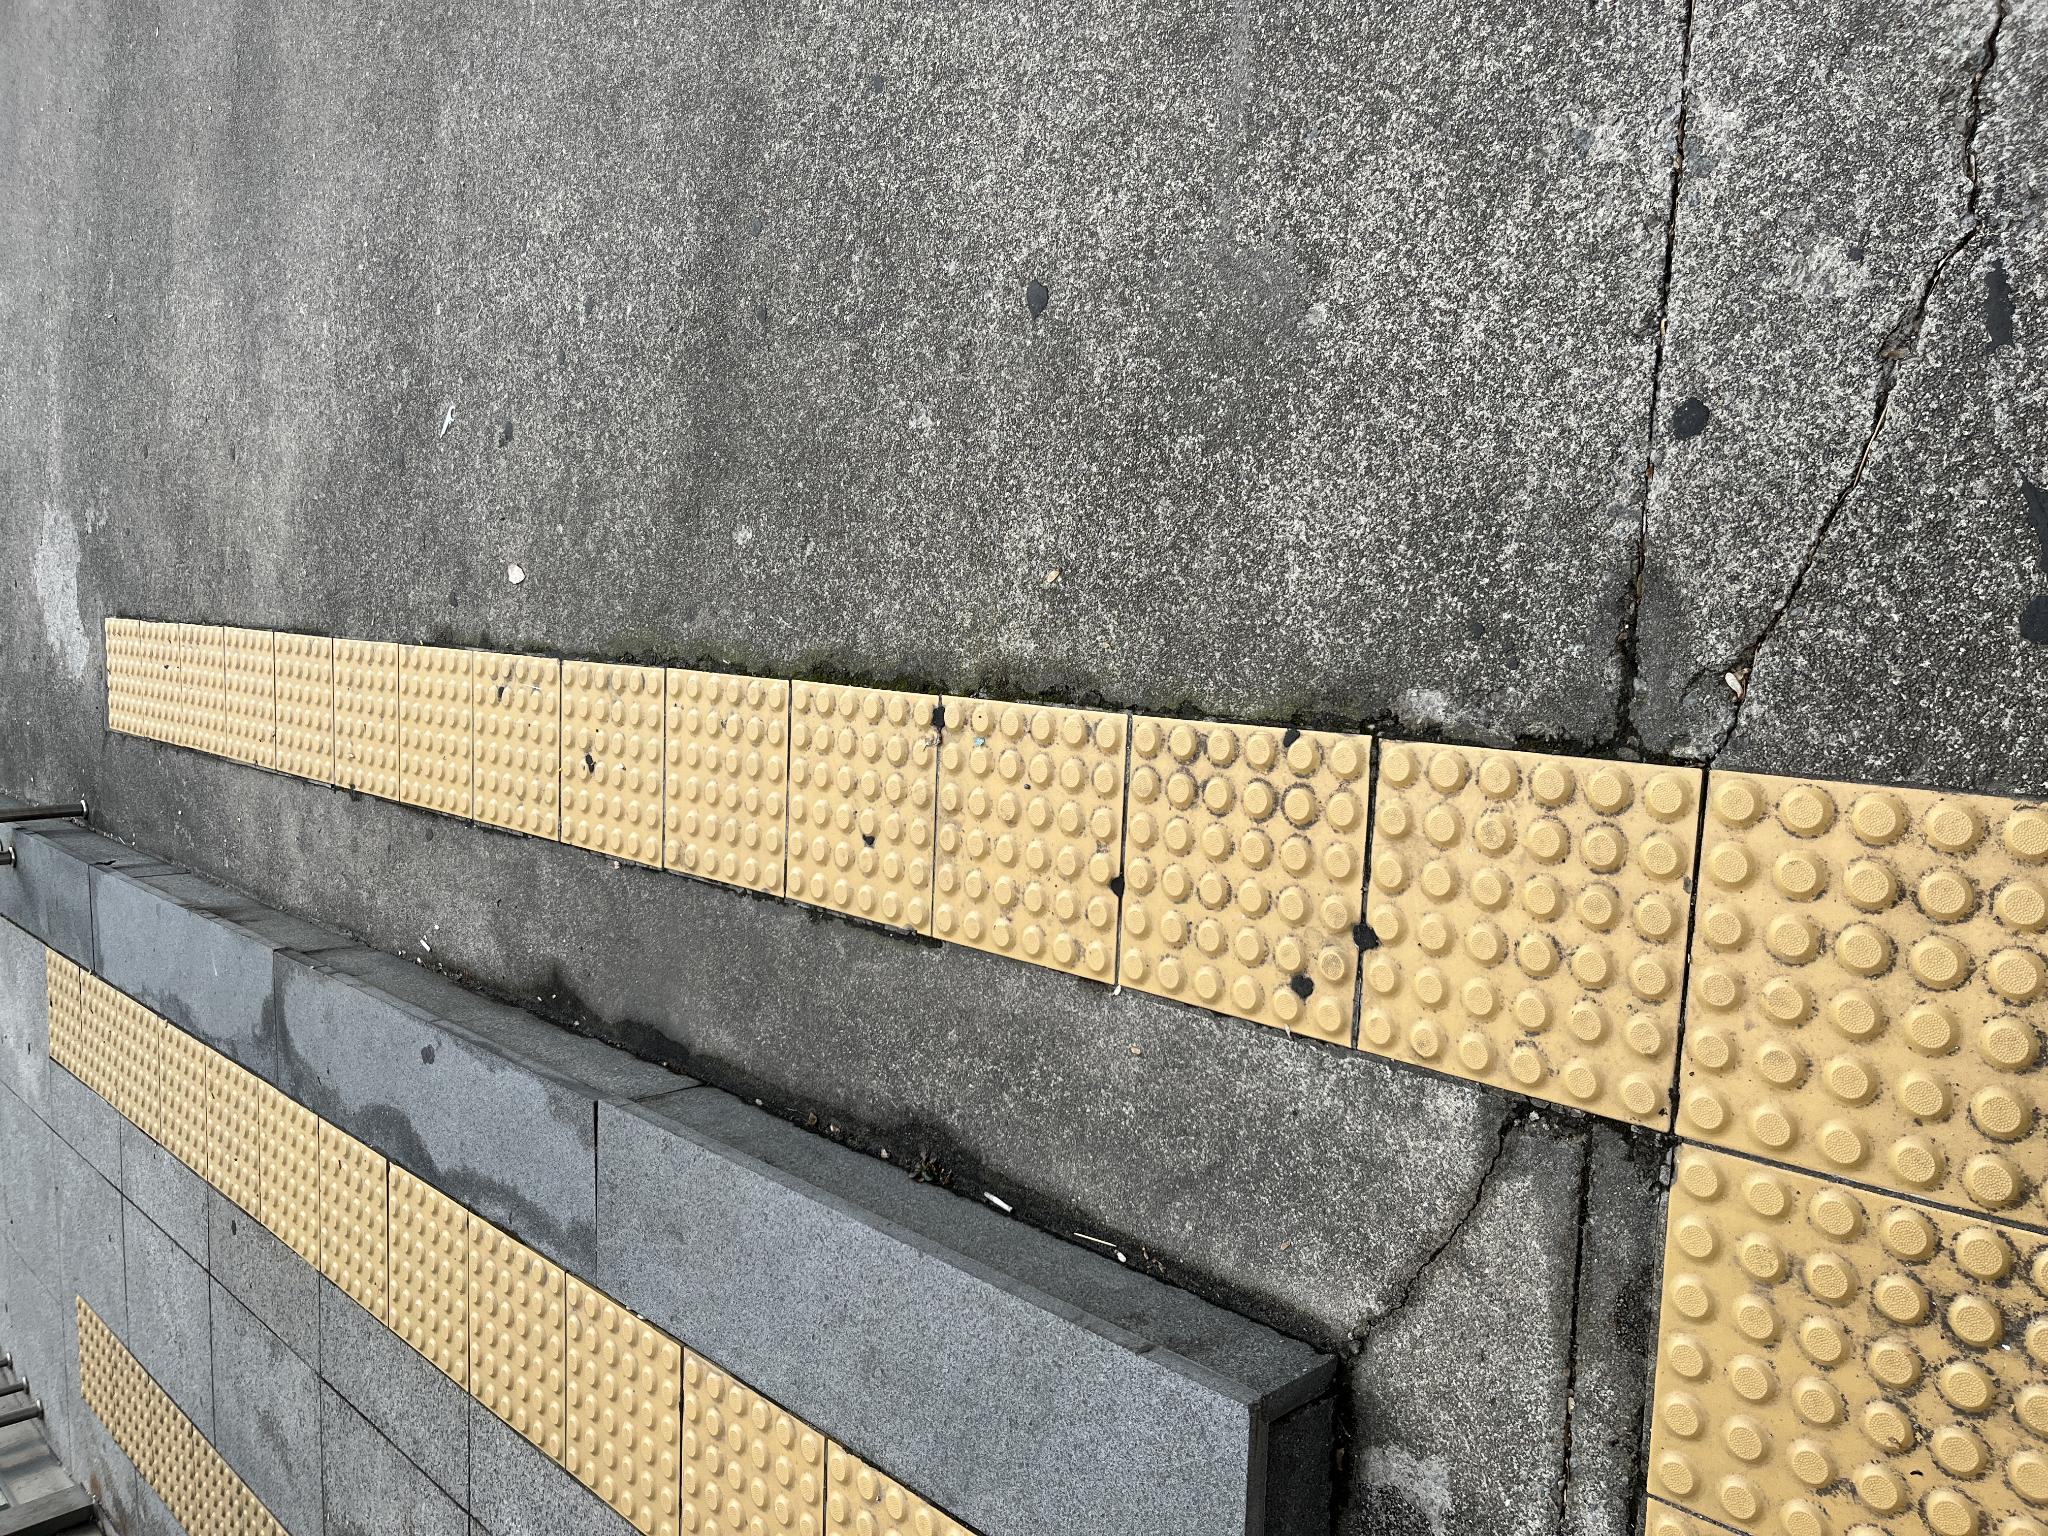Stop block normal: (440, 1357, 793, 1536), (555, 933, 839, 1125), (642, 666, 866, 786), (753, 276, 903, 332)
